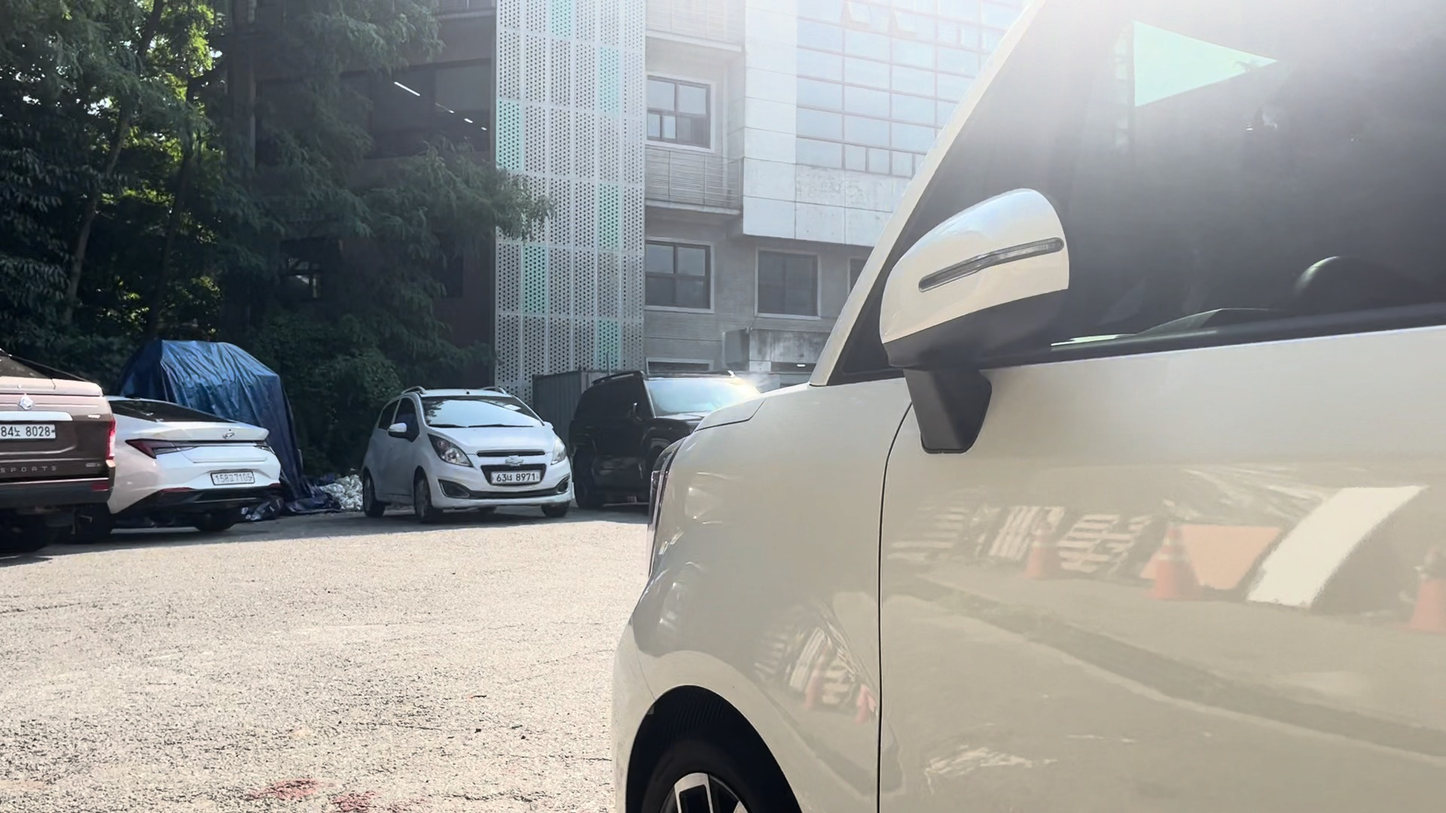side_mirror: (881, 190, 1075, 375)
